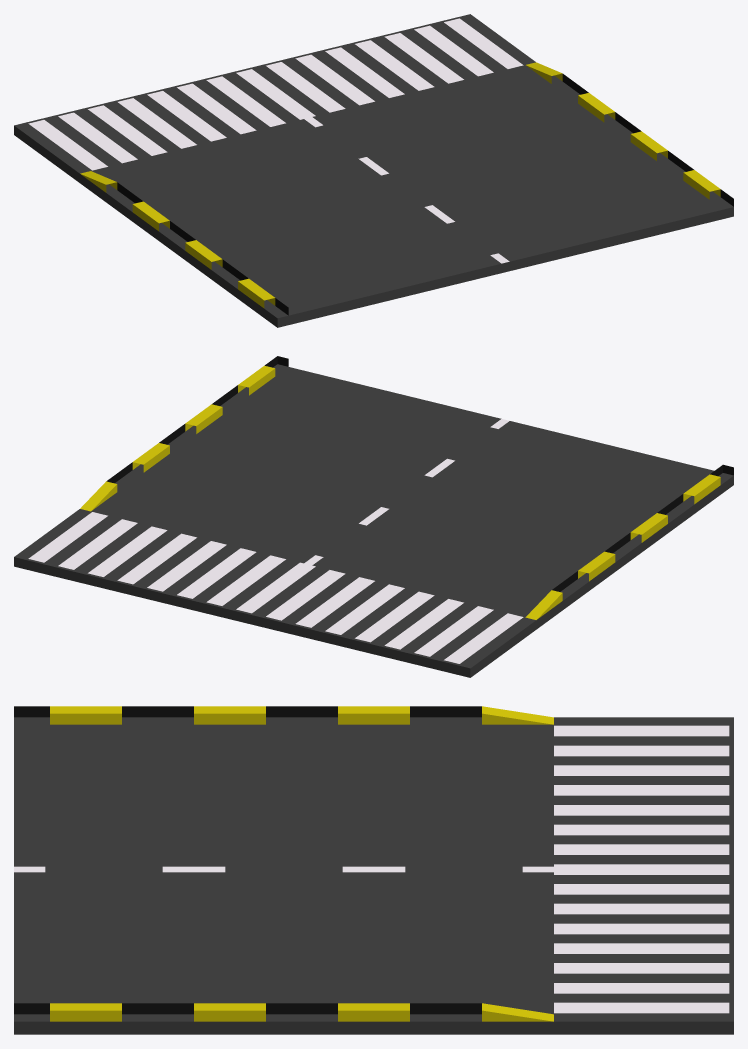
Rendered from straight_crosswalk.glb.
The picture shows the model from 3 angles, top to bottom: view 1: azimuth 30°, elevation 25°; view 2: azimuth 150°, elevation 25°; view 3: azimuth 270°, elevation 25°; orthographic projection. The views are drawn at different scales.
Parts seen in each view (by area): view 1: StraightCrosswalk; view 2: StraightCrosswalk; view 3: StraightCrosswalk.
Part boxes in pixels (x1,y1,x2,y2): StraightCrosswalk: (14,14,733,327); StraightCrosswalk: (14,356,733,677); StraightCrosswalk: (14,706,733,1034).
Bounding box in the file's own units: 2 × 0.0741 × 2.
